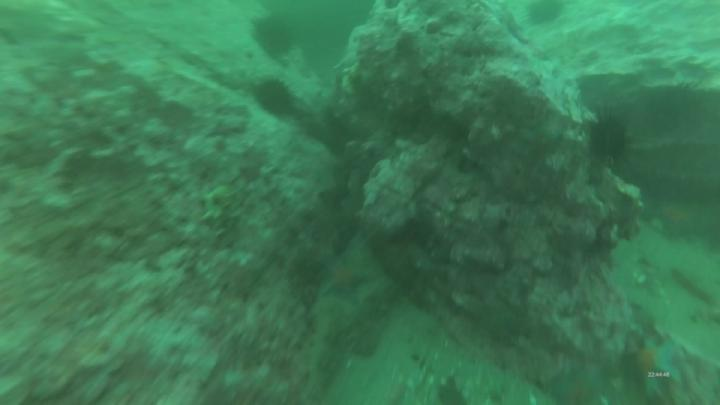echinus: (588, 108, 635, 168), (251, 73, 299, 123), (248, 13, 298, 59), (522, 1, 569, 28), (436, 374, 470, 405)
holothurian: (338, 298, 376, 356)
starfish: (624, 333, 690, 401), (549, 361, 619, 405), (318, 256, 376, 307), (652, 193, 706, 240)
